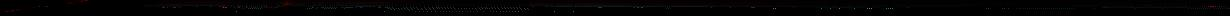Blue cone: (83, 0, 89, 1)
Yellow cone: (282, 2, 291, 6)
